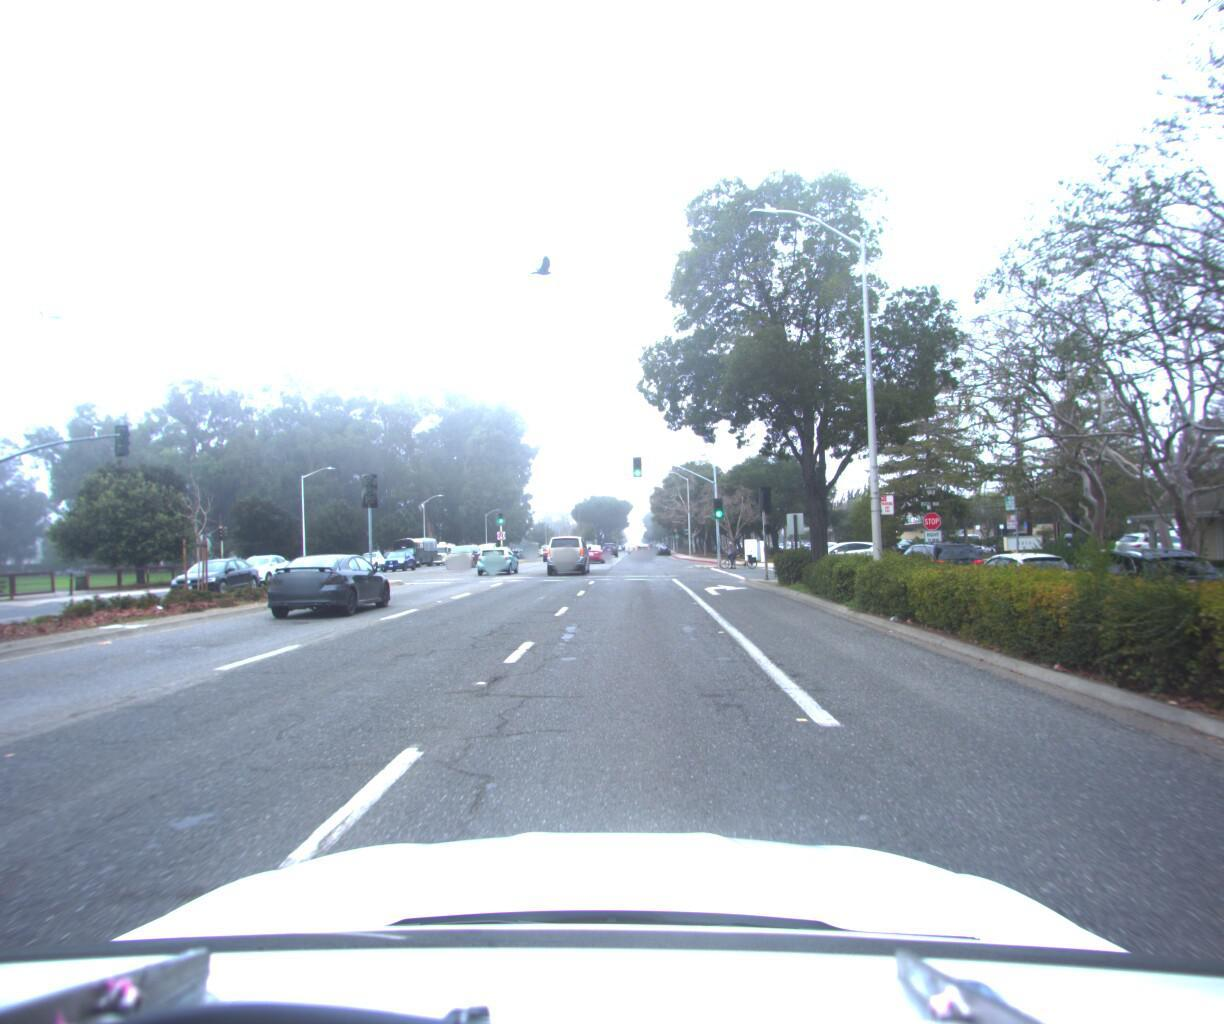bicycle: (711, 532, 757, 564)
car: (1024, 536, 1224, 627), (258, 546, 399, 620), (946, 540, 1086, 603), (877, 529, 989, 589), (162, 556, 266, 605), (1098, 519, 1204, 557), (794, 532, 881, 562), (228, 550, 299, 586), (540, 530, 591, 573), (473, 540, 521, 571), (442, 536, 483, 566), (379, 544, 417, 567), (577, 537, 605, 558), (632, 534, 652, 552)
